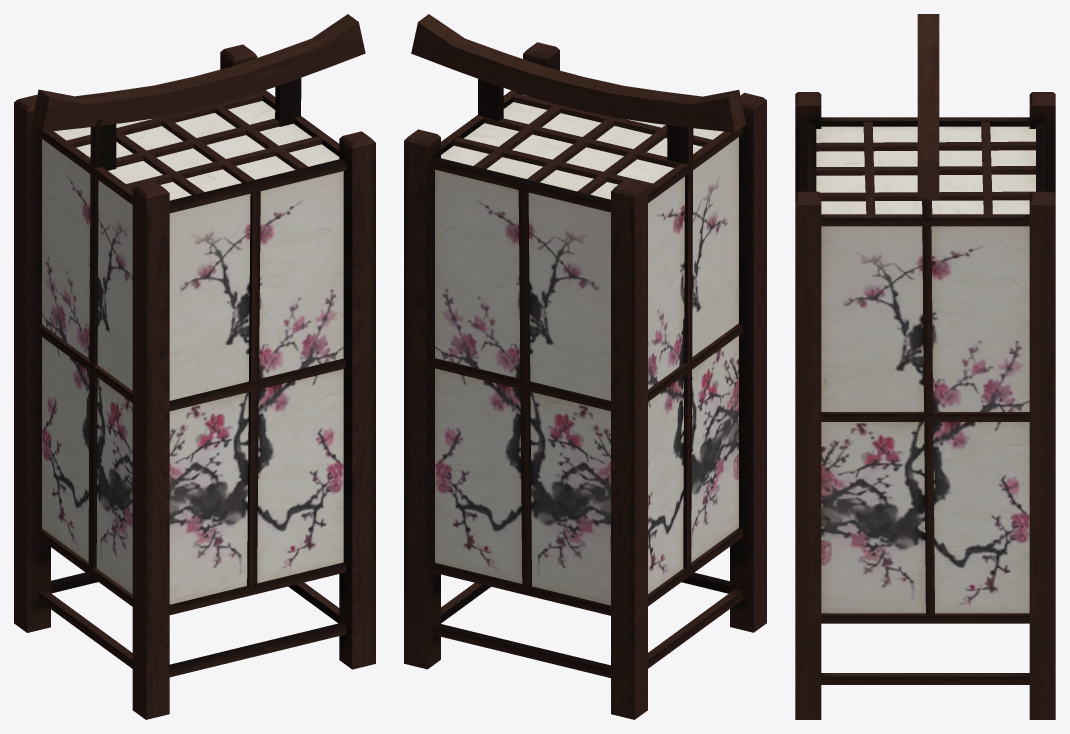
Rendered from Lantern4.a.fbx.
3 views of the same model, side by side, from view 1: azimuth 30°, elevation 25°; view 2: azimuth 150°, elevation 25°; view 3: azimuth 270°, elevation 25° (orthographic).
Visible parts, largest first — view 1: Group 0; view 2: Group 0; view 3: Group 0.
Part boxes in pixels (<box>): Group 0: <box>14,14,375,719</box>; Group 0: <box>404,14,766,719</box>; Group 0: <box>795,14,1055,719</box>.
Bounding box in the file's own units: 31.66 × 54.84 × 22.39.
Materials: 2 (2 with a texture image).
